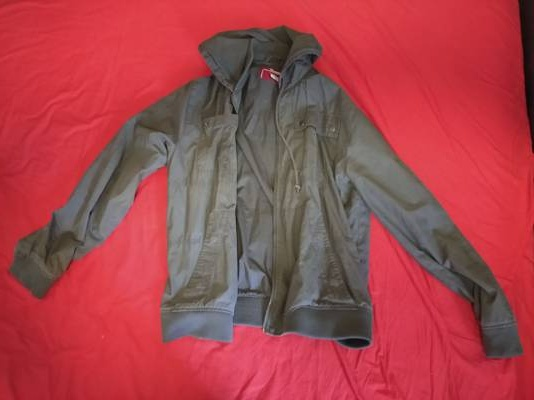Hoodie: (18, 27, 528, 361)
